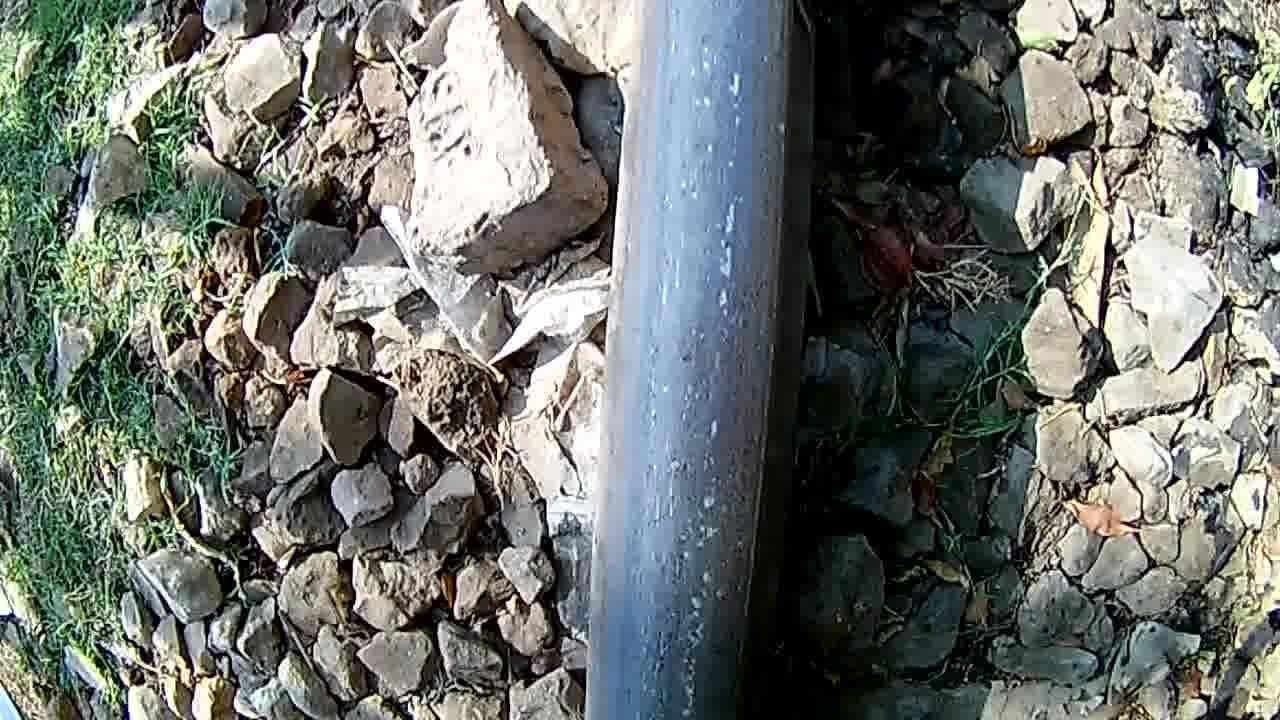clip_missing: (608, 6, 788, 715)
